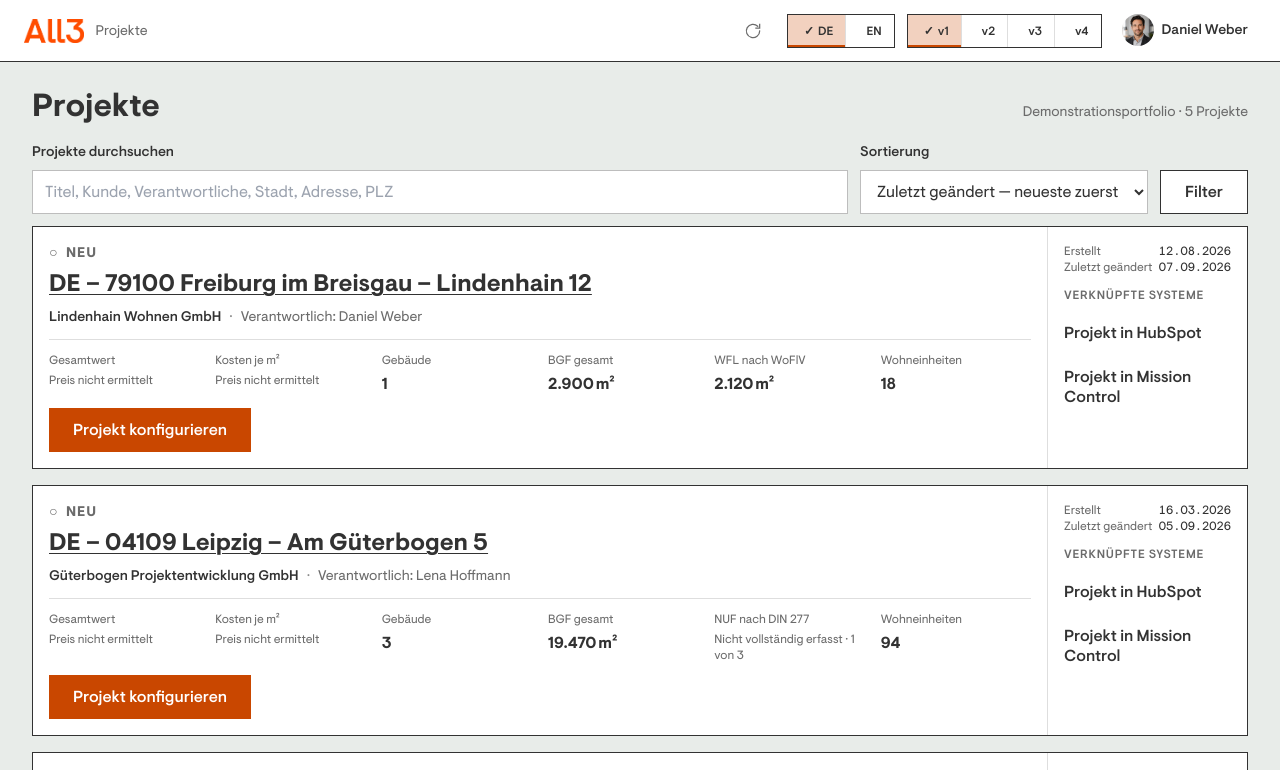
Test: Уровень Projekte › пустой результат называет причину и предлагает ровно один выход
In the search field: (440, 192) 32,170 -> 848,214, type "zzz"
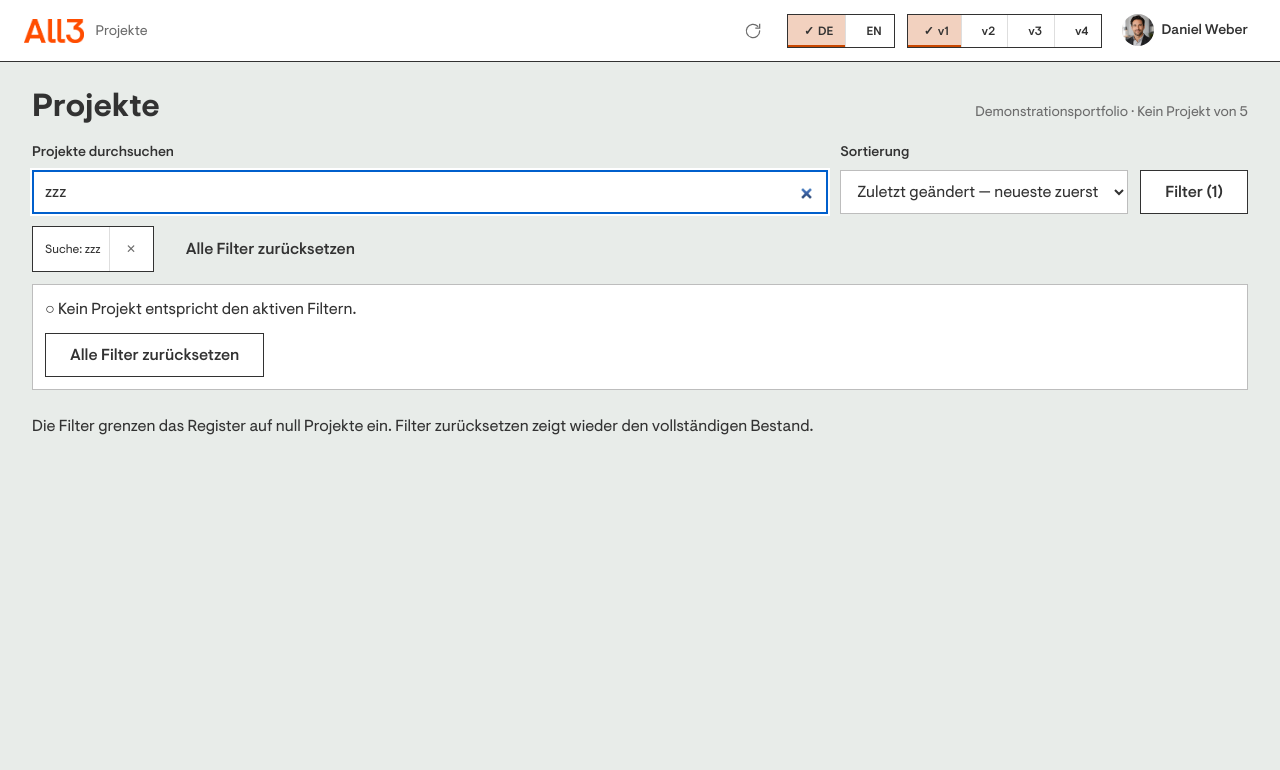
Expected: the text "Kein Projekt entspricht den aktiven Filtern." is shown, 58,298 -> 356,320
Expected: the text "Die Filter grenzen das Register auf null Projekte ein" is shown, 32,415 -> 813,437
Expected: no list items are shown
